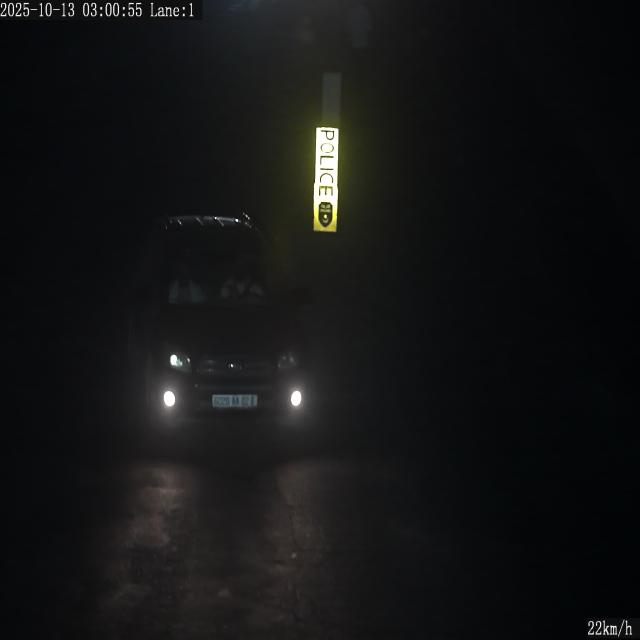BUS: (212, 394, 258, 409)
